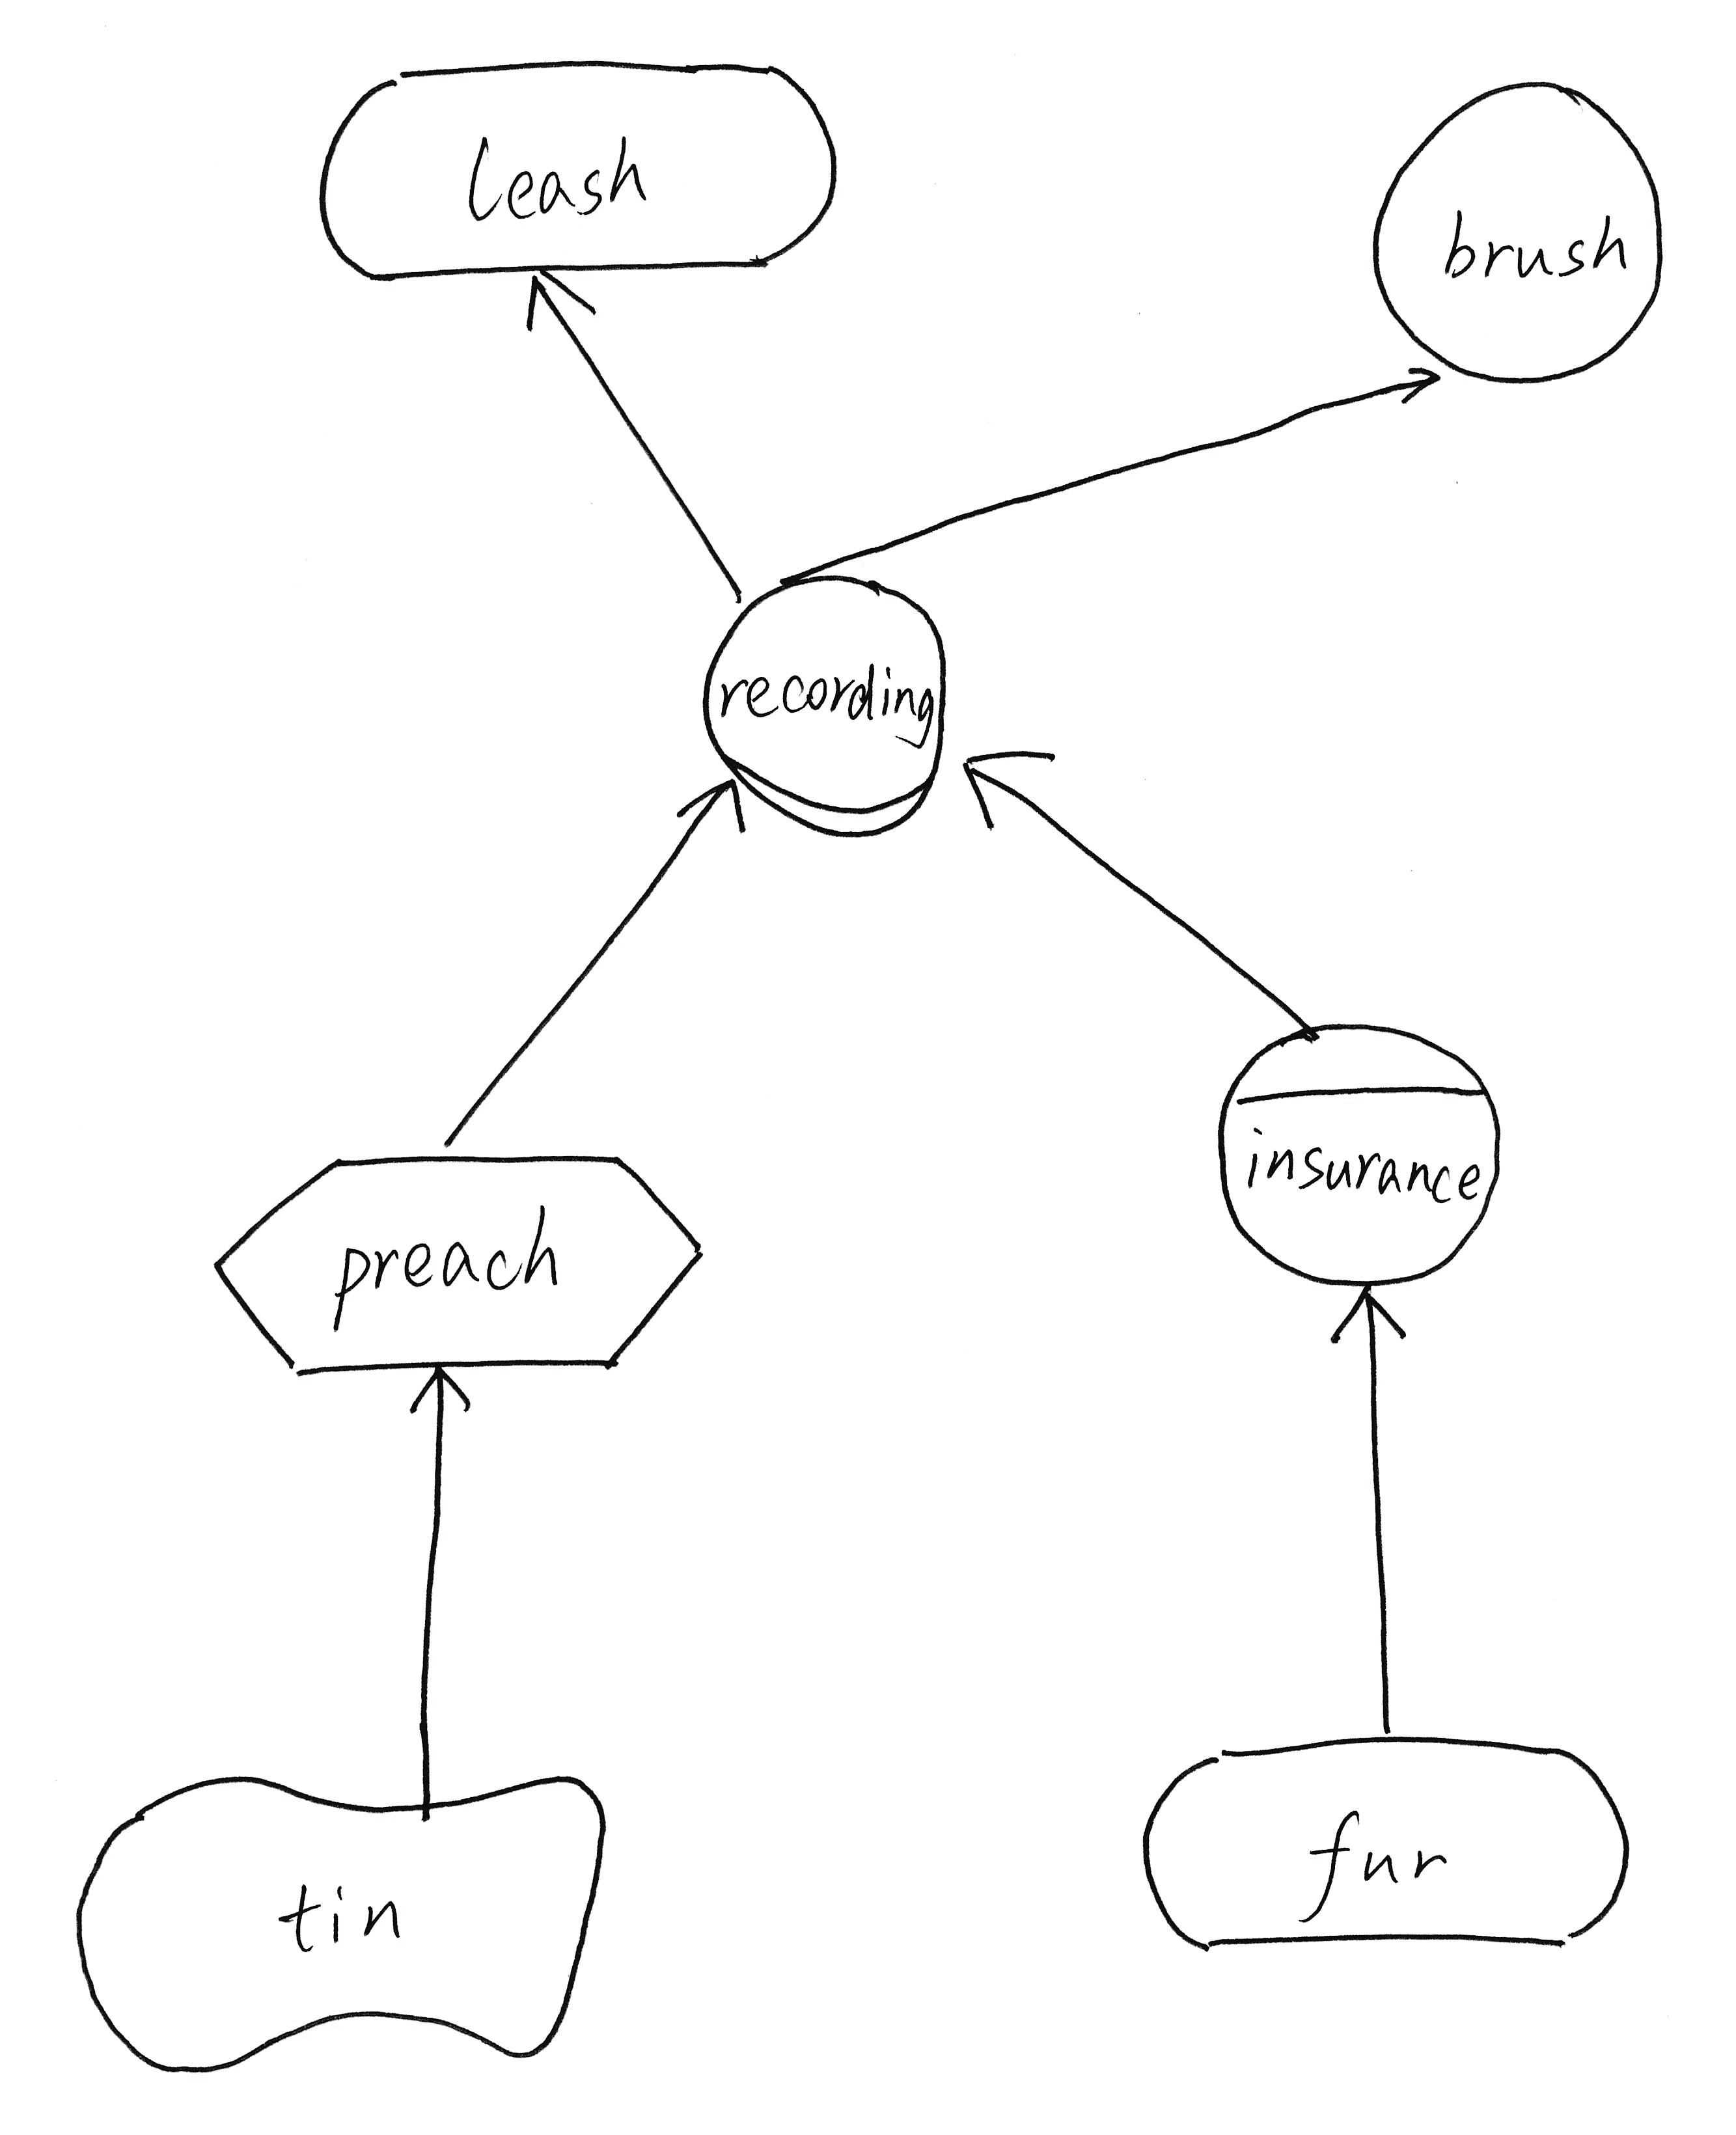actor: (1353, 53, 1681, 402)
agent: (1203, 1003, 1518, 1295)
arrow: (951, 726, 1065, 842), (505, 250, 615, 340), (1318, 1274, 1422, 1361), (675, 764, 760, 854), (407, 1348, 485, 1428), (1378, 354, 1454, 413)
goal: (305, 37, 856, 296), (1118, 1713, 1653, 1974)
quality: (51, 1749, 624, 2085)
role: (678, 556, 987, 854)
task: (193, 1129, 719, 1396)
